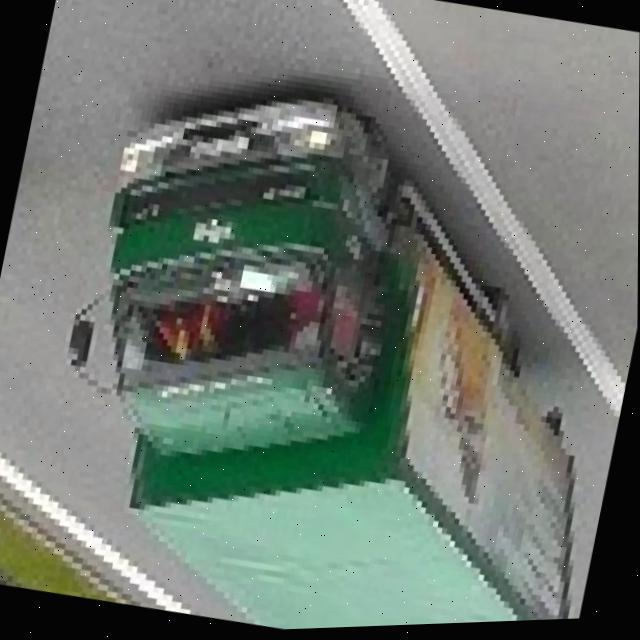truck: (11, 46, 640, 640)
